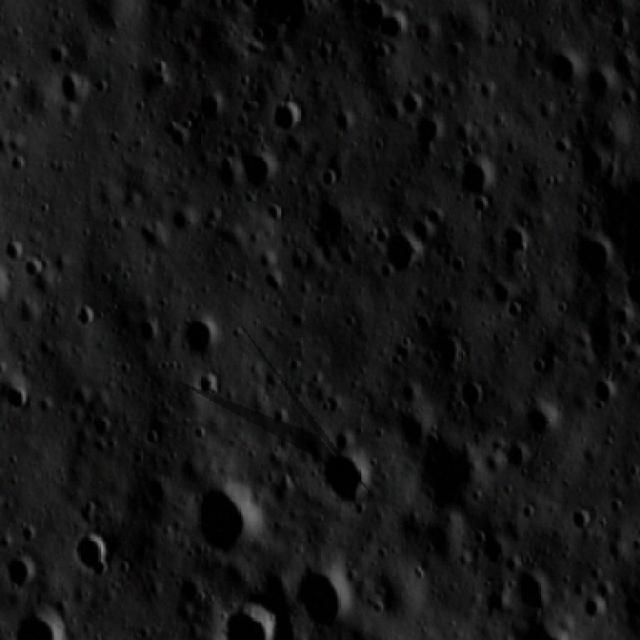crater: (406, 434, 496, 518), (189, 475, 268, 559), (310, 446, 382, 516), (287, 564, 356, 628), (375, 547, 430, 627), (61, 524, 117, 588), (562, 222, 618, 284), (210, 595, 281, 640), (378, 224, 429, 282), (451, 149, 502, 203), (315, 196, 363, 252), (504, 564, 558, 613), (546, 39, 586, 95), (178, 310, 224, 358), (487, 216, 535, 262), (409, 108, 449, 162), (234, 147, 283, 191), (9, 606, 72, 640), (270, 91, 312, 140), (160, 110, 195, 162), (246, 15, 289, 57), (521, 392, 562, 436), (433, 332, 473, 377), (58, 63, 97, 109), (582, 62, 620, 109), (449, 374, 494, 412), (345, 0, 388, 38), (4, 552, 42, 594), (198, 87, 232, 133), (588, 369, 624, 409), (573, 141, 605, 185), (3, 382, 42, 418), (189, 369, 228, 405), (377, 8, 412, 48), (501, 620, 570, 640), (482, 582, 515, 623), (138, 310, 170, 352), (580, 588, 612, 628), (560, 503, 598, 535), (70, 299, 102, 333), (318, 161, 342, 194), (332, 424, 353, 458), (520, 496, 540, 530), (528, 352, 550, 379), (232, 0, 265, 17)
